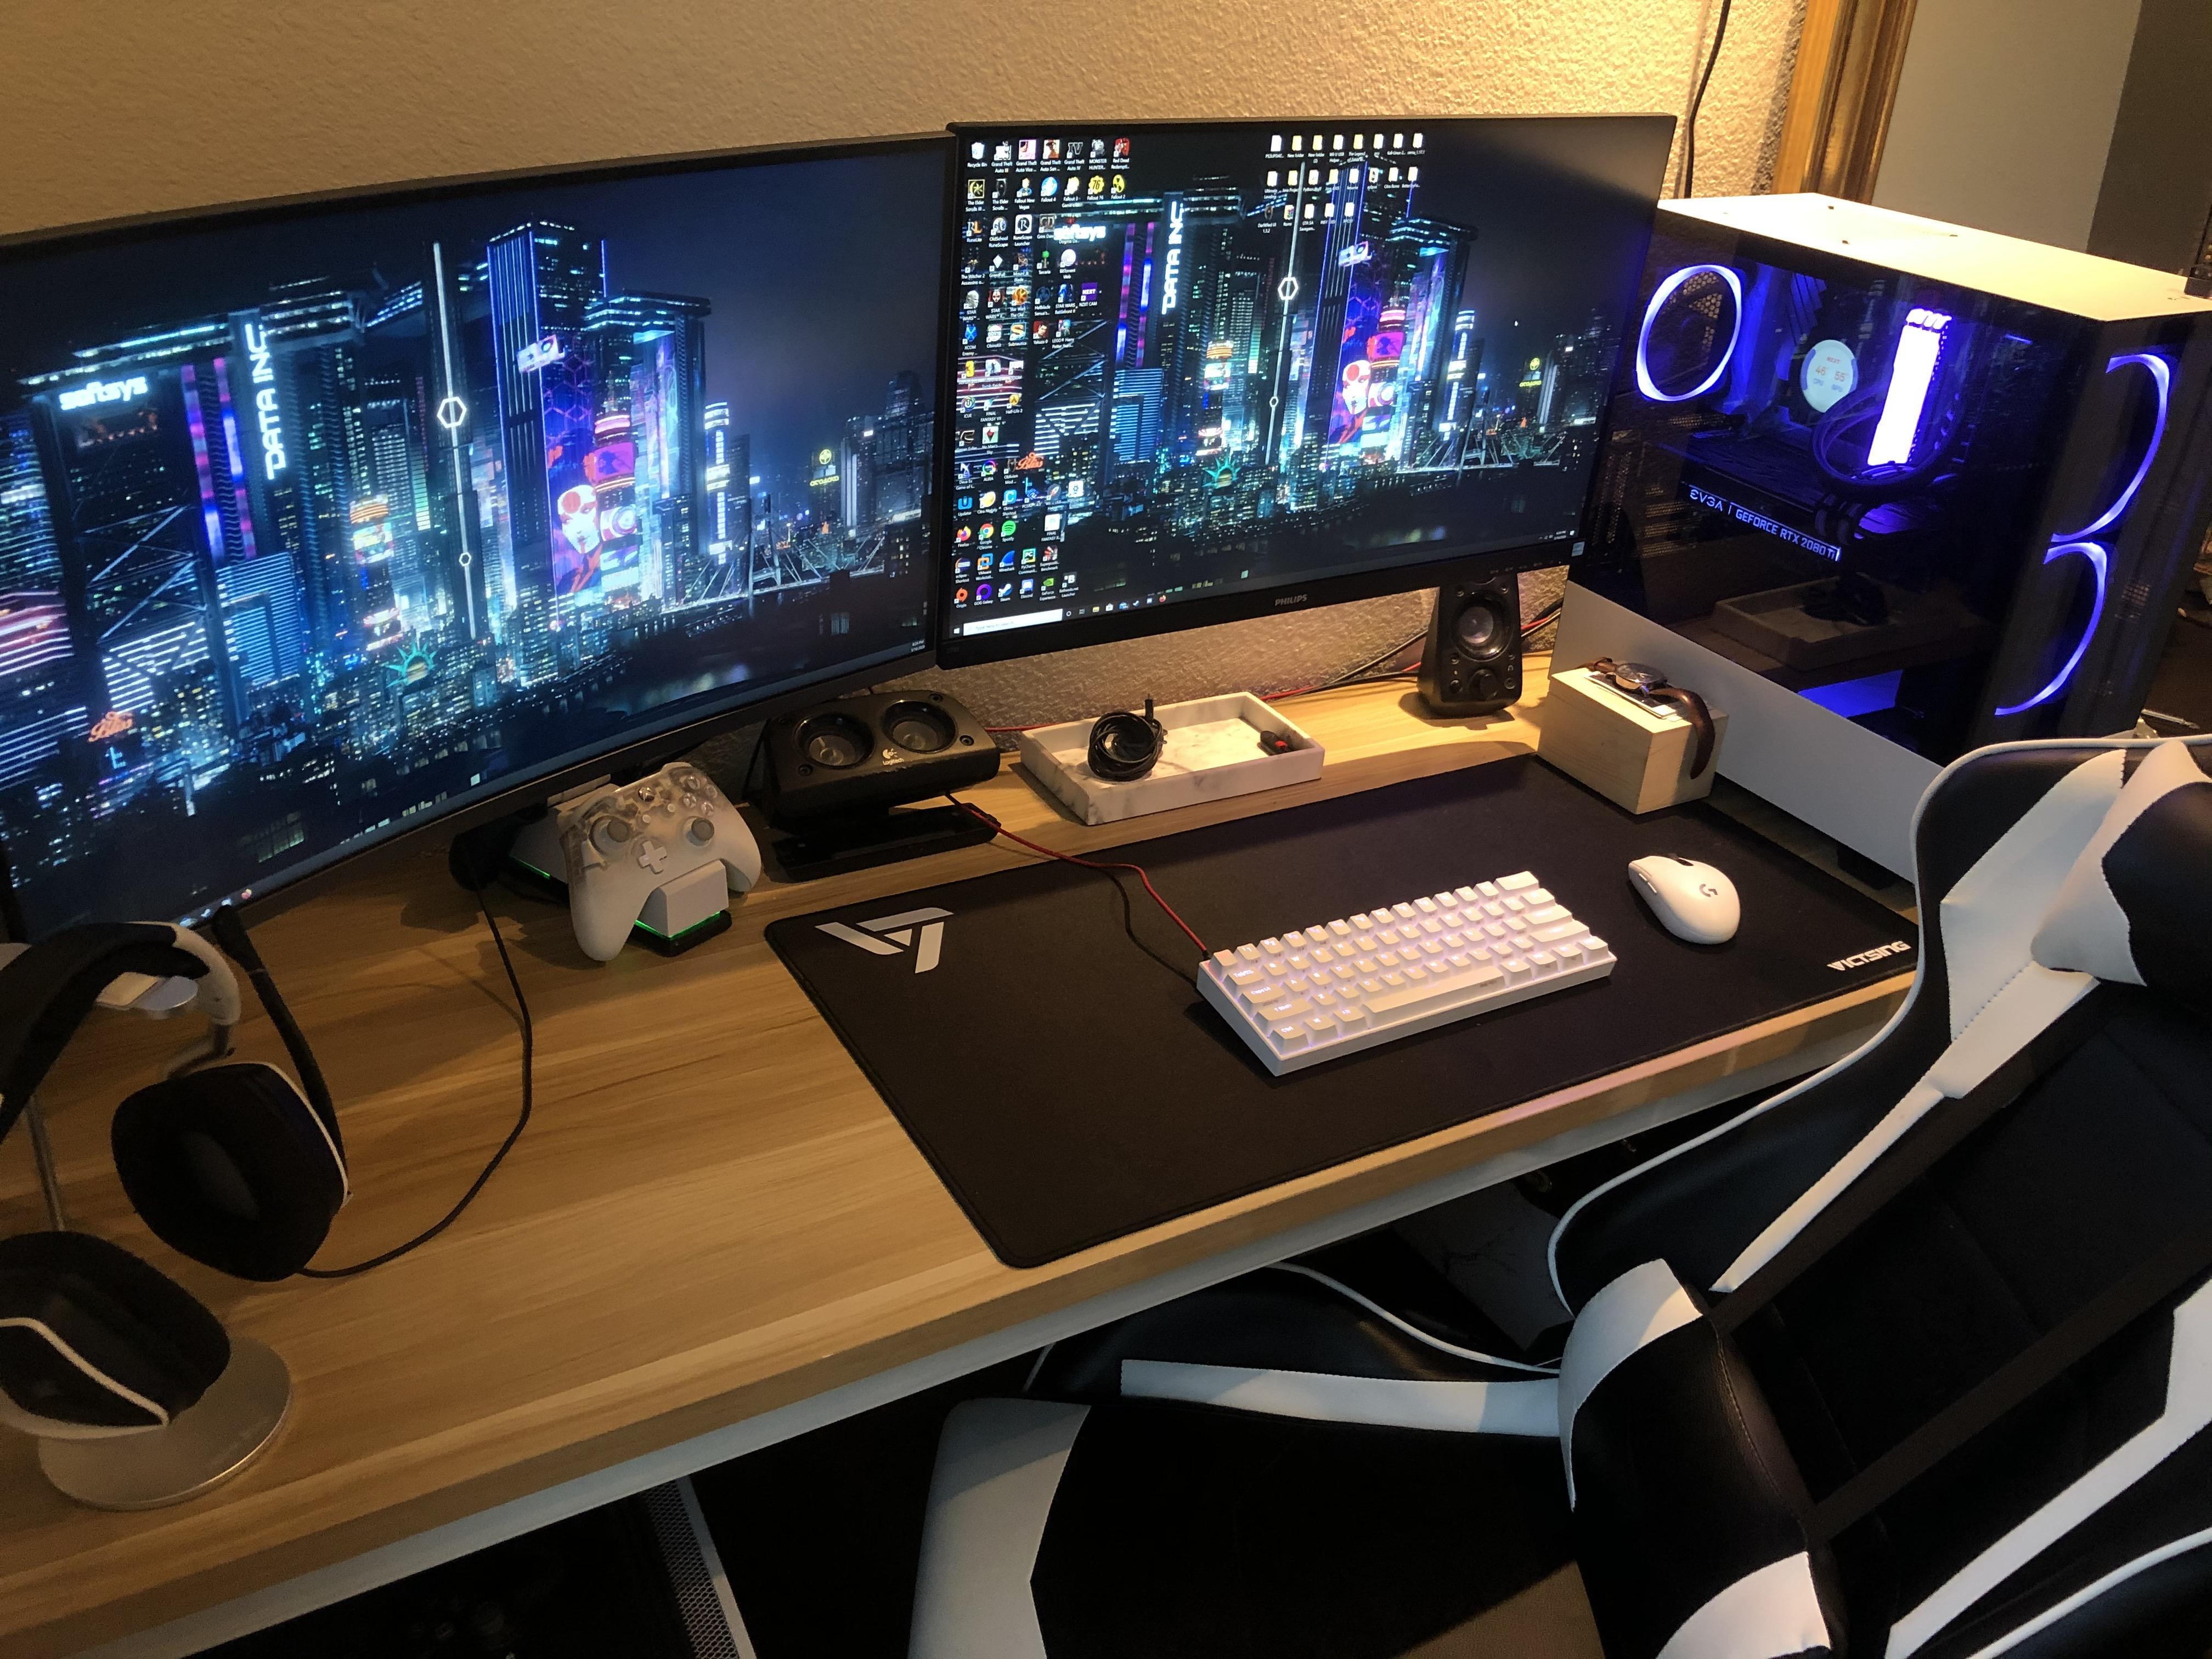Chair (Gaming): (885, 716, 2212, 1659)
Decoration (Watch): (1592, 638, 1695, 716)
Desktop (Windows): (1578, 185, 2160, 892)
External Speakers (Generic): (765, 695, 1021, 843), (1428, 547, 1527, 720)
Gaming Controller: (561, 774, 758, 929)
Headphones (with Microphone): (0, 885, 420, 1453)
Keyboard (Gaming): (1162, 870, 1630, 1032)
Monitor (Landscape): (0, 91, 941, 962), (941, 103, 1679, 671)
Mouse (Gaming): (1611, 836, 1775, 950)
Mousepad (Gaming): (711, 810, 1949, 1065)
